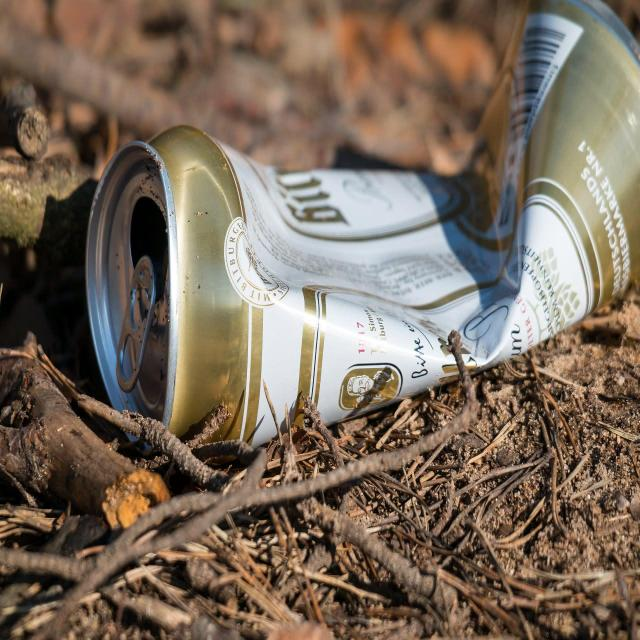can: (85, 0, 639, 452)
pop tab: (117, 256, 157, 396)
